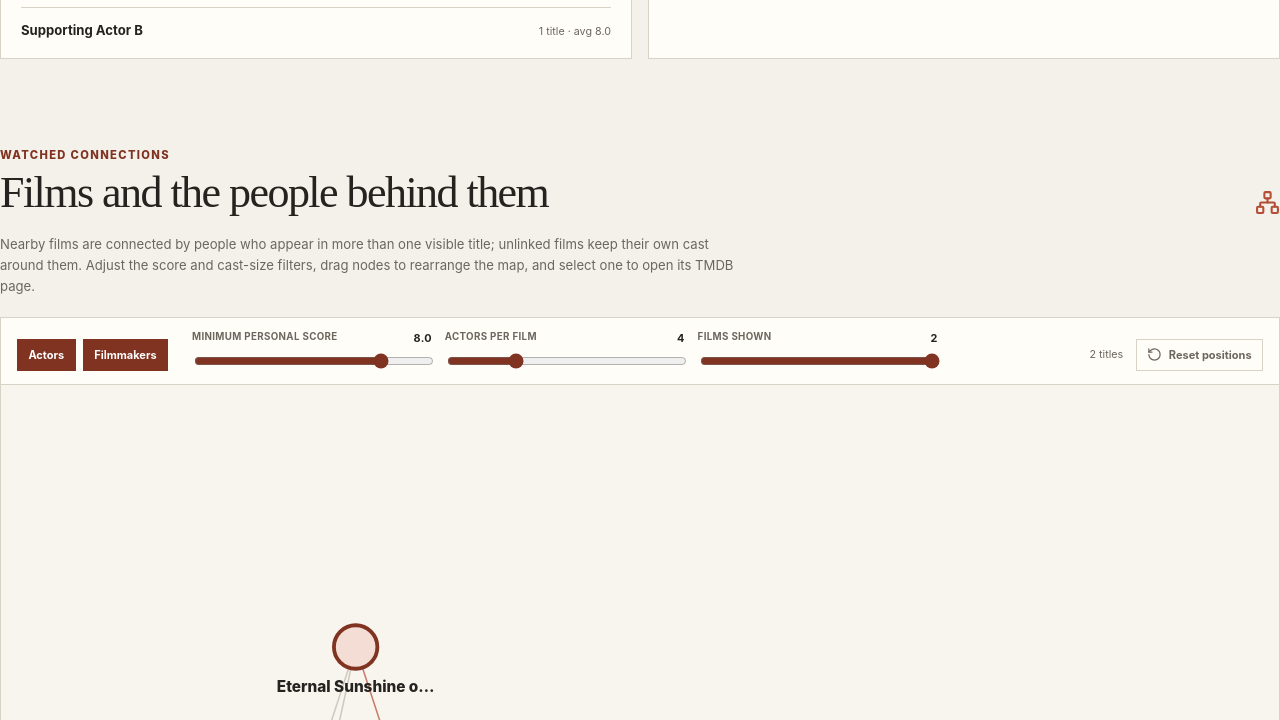
personal taste profile › filters map titles by personal score and limits actors per film
(page scrolled)
Set the slider labelled "Actors per film" to "1" at {"x": 455, "y": 361}, box [447, 353, 687, 369]
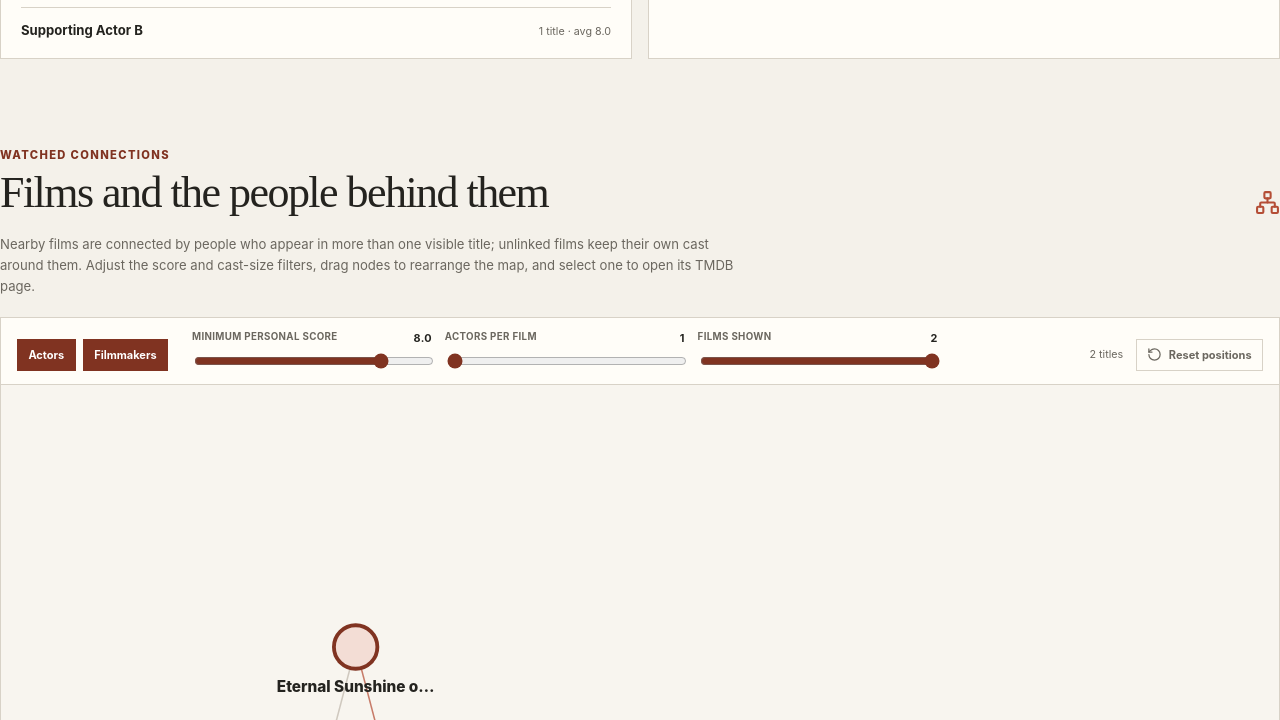
Set the slider labelled "Minimum personal score" to "9" at {"x": 404, "y": 361}, box [194, 353, 434, 369]
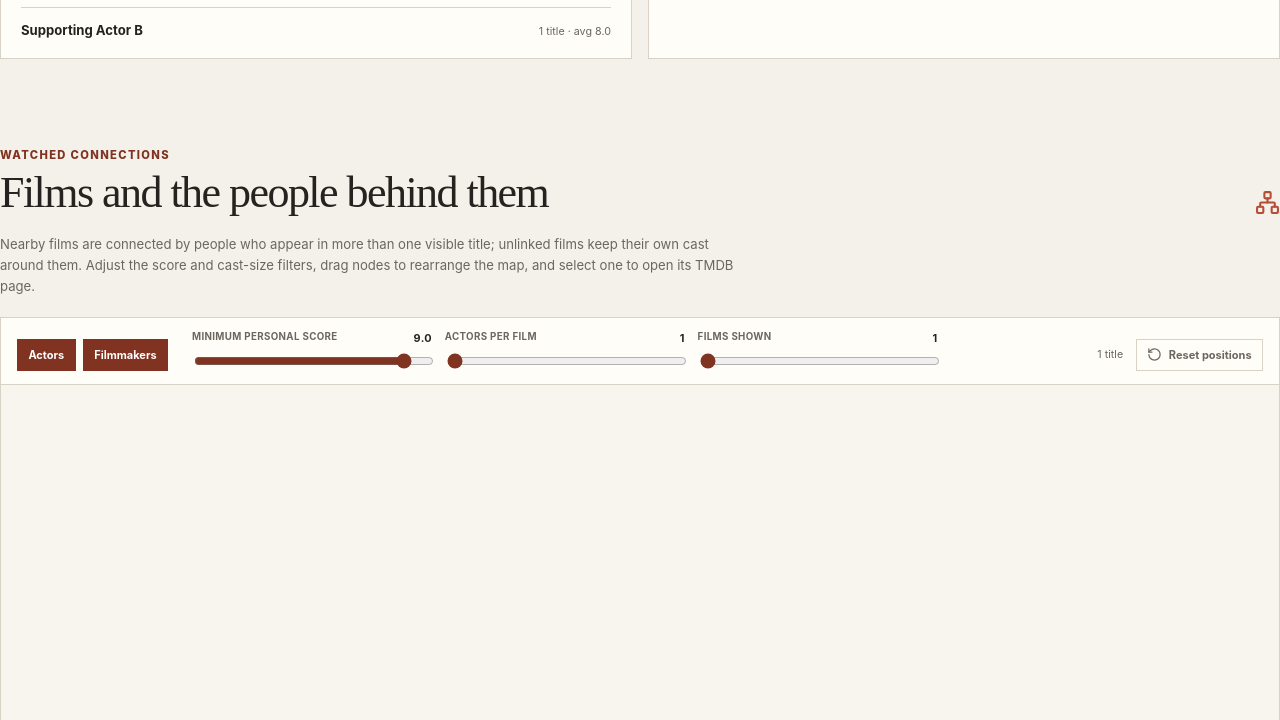
Check: the text "1 title" is shown, box [1097, 348, 1123, 361]
Set the slider labelled "Minimum personal score" to "10" at {"x": 426, "y": 361}, box [194, 353, 434, 369]
(page scrolled)
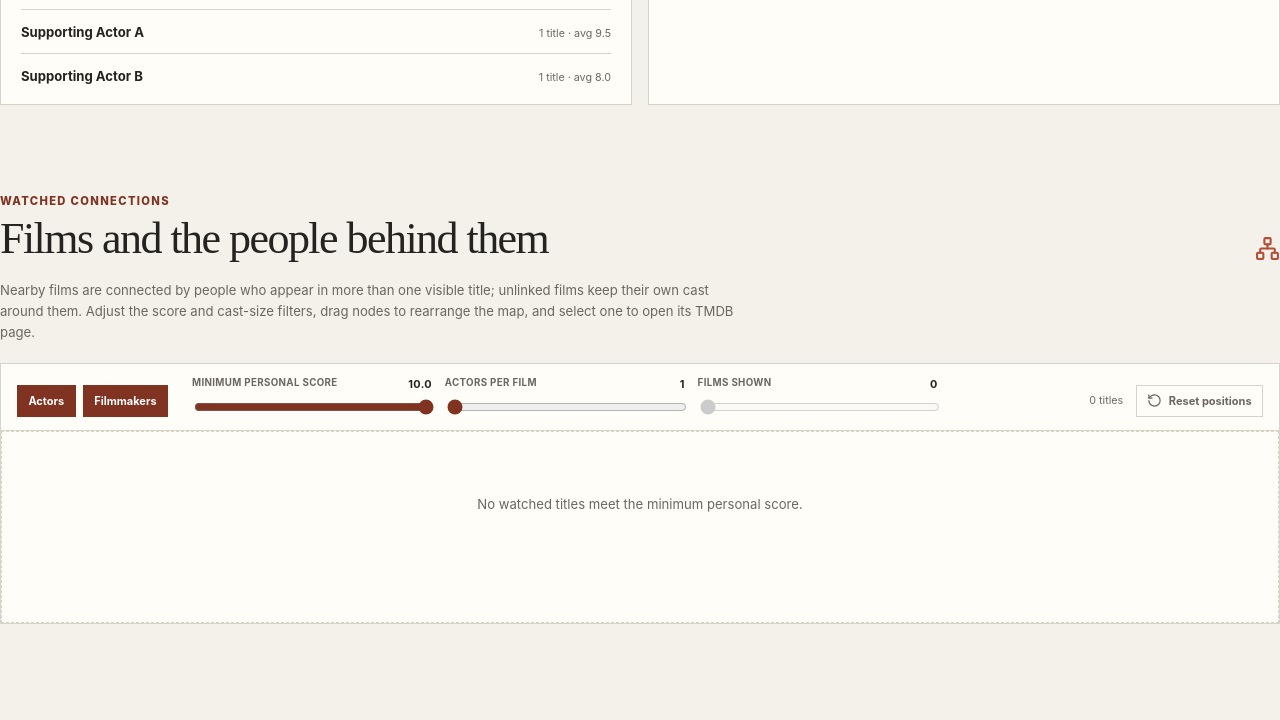
Check: the text "No watched titles meet the minimum personal score." is shown, box [1, 431, 1279, 623]
